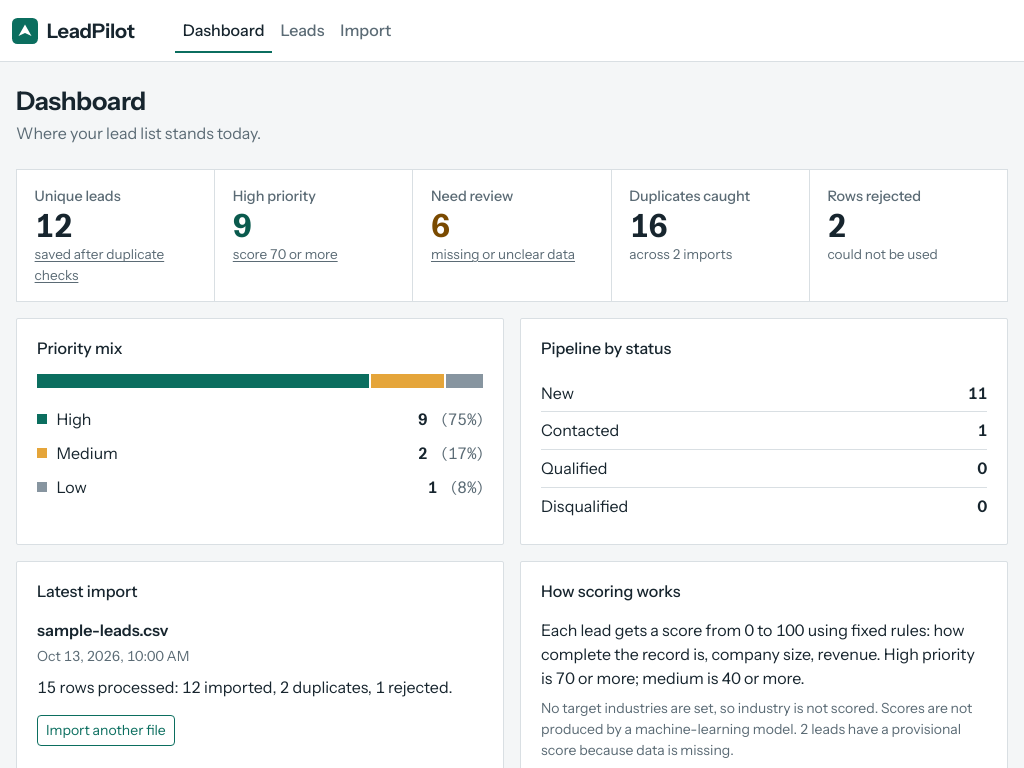
Test: App navigation › opens the leads table pre-filtered from a dashboard shortcut
The width and height of the screenshot is (1024, 768).
Click the button "missing or unclear data" at (503, 254), box [431,244,575,265]
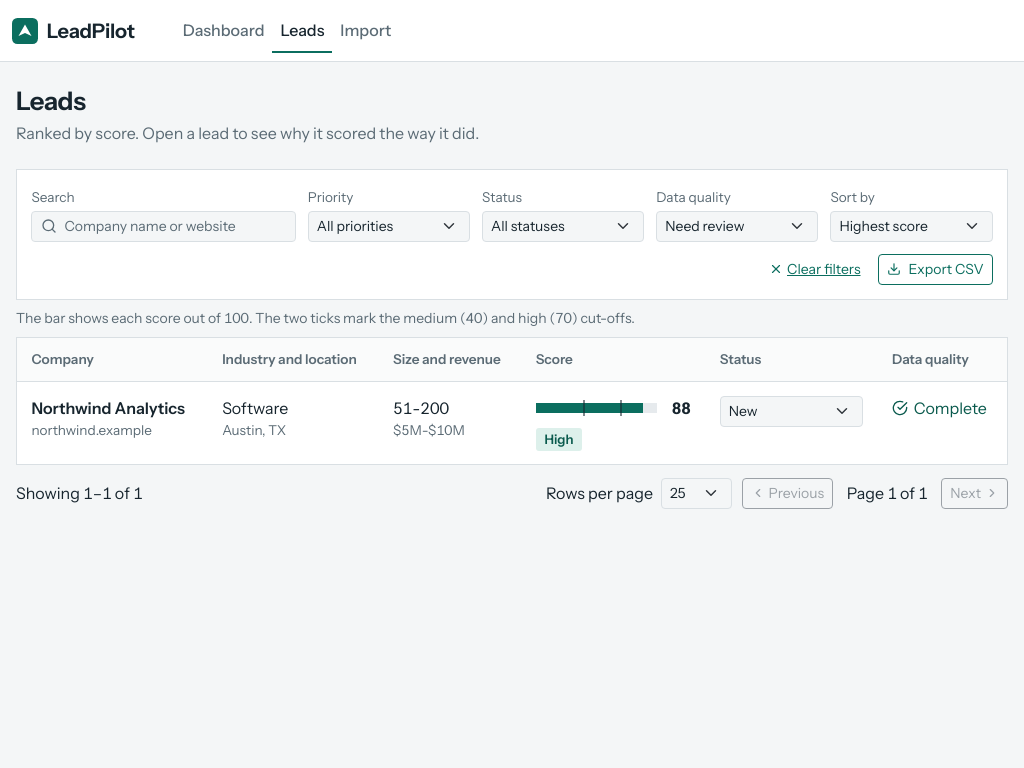
Now the heading "Leads" is shown, box [16,85,86,116]
Now the dropdown labelled "Data quality" shows "Need review", box [656,211,818,242]
